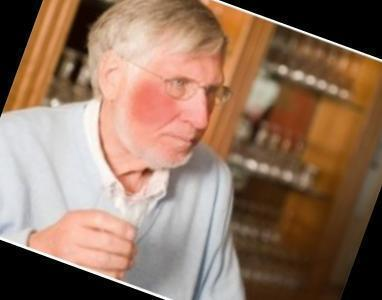Drunk: (126, 50, 223, 166)
